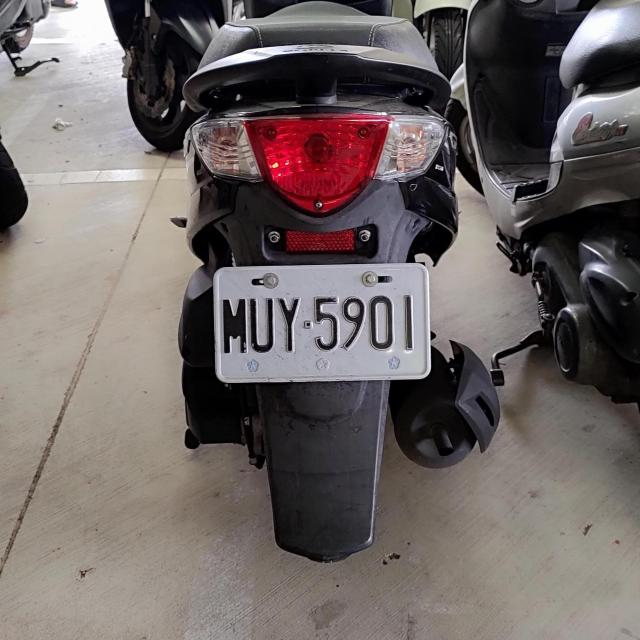W: (214, 262, 428, 380)
